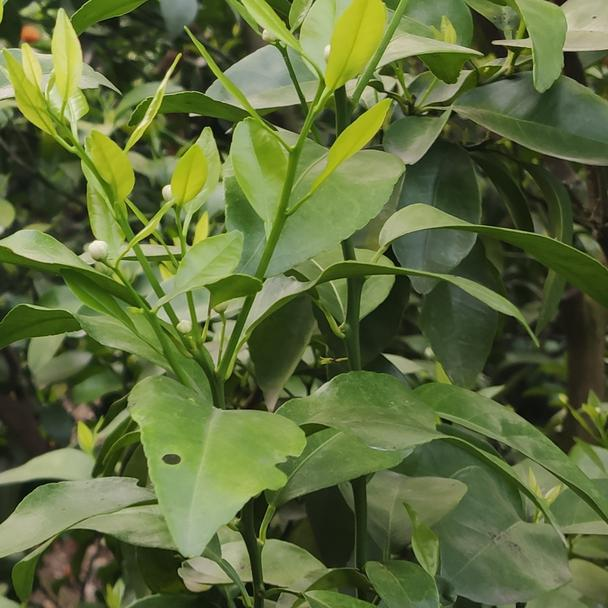shoot: (201, 2, 397, 229), (8, 28, 141, 240)
